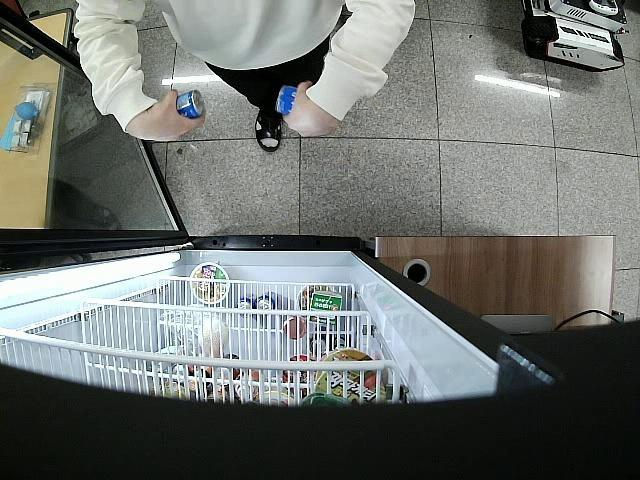15_letsbe: (176, 90, 206, 120), (276, 86, 296, 116)
